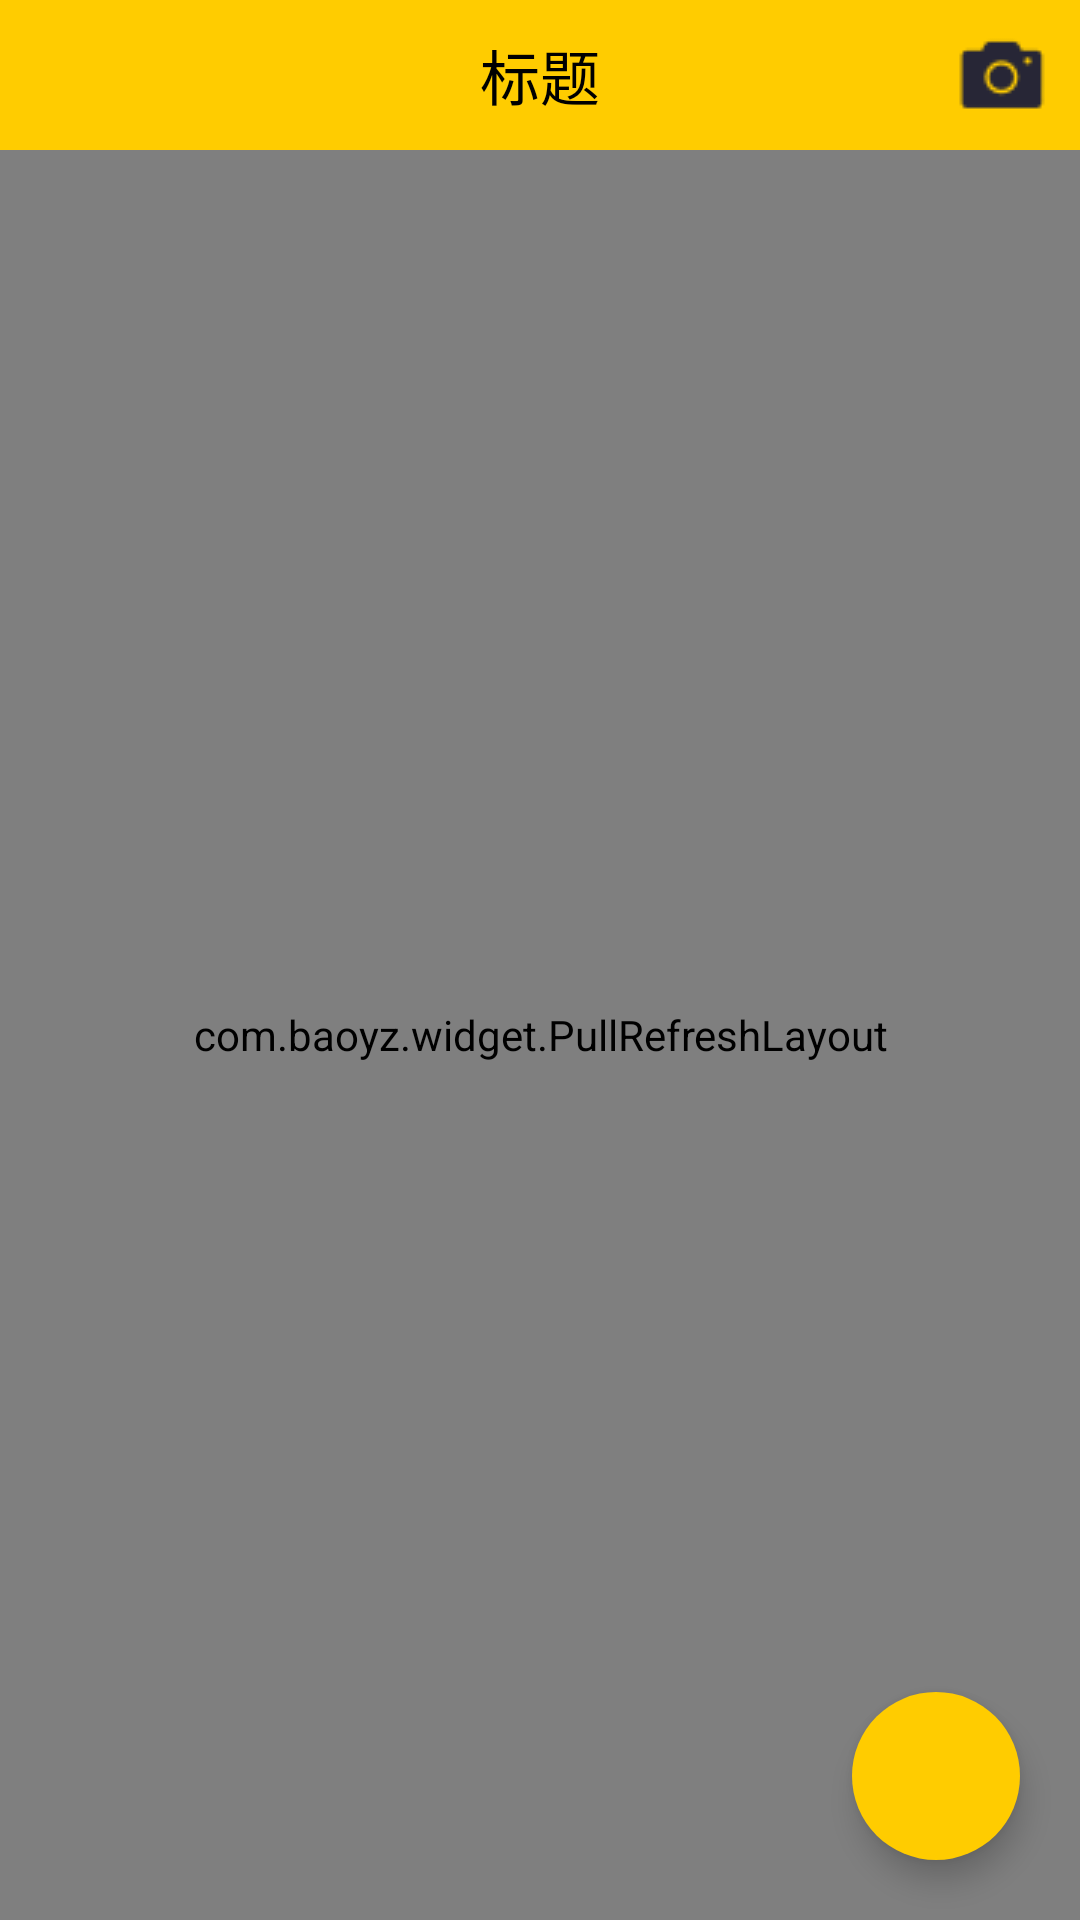

Where to tap for icons on this 1080×1920 app screen, as (x=x, y=y):
camera: (x=1001, y=75)
